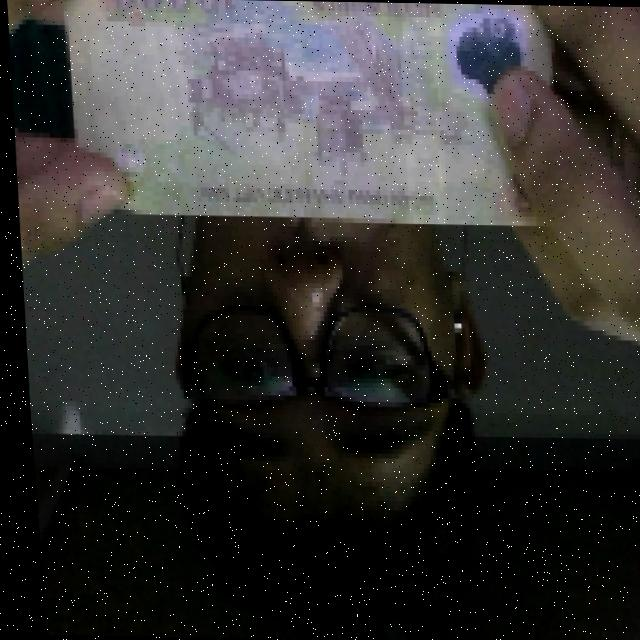10 000 VND: (54, 0, 567, 230)
